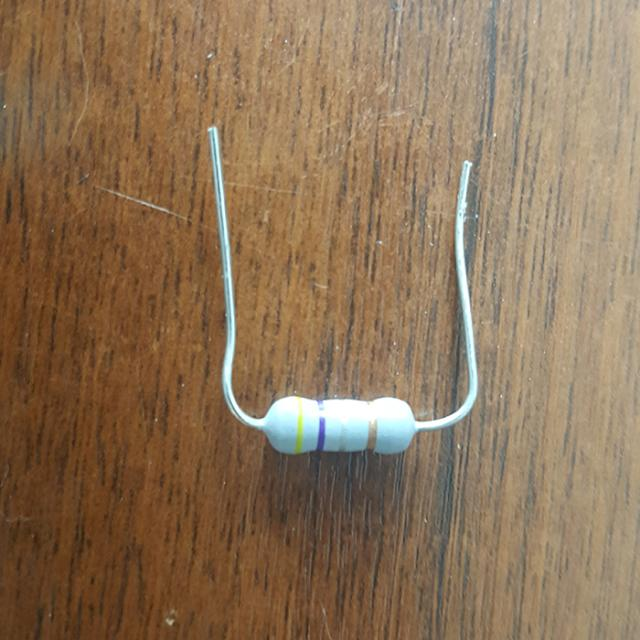Resistor Carbon-Film: (270, 397, 414, 456)
